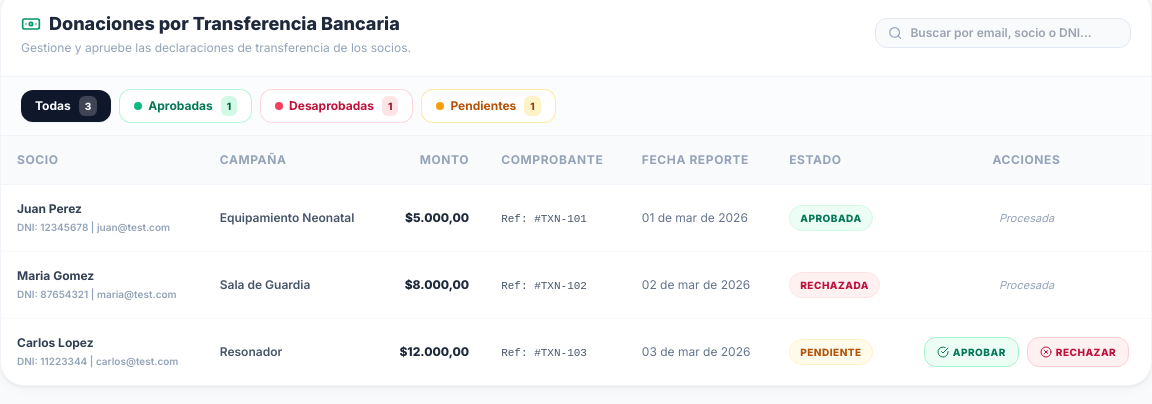
AdminTransfersTab - Vistas por estado › debería filtrar exclusivamente transferencias aprobadas al seleccionar la pestaña Aprobadas
Click the button "Aprobadas 1" at coordinates (186, 106), box [119,89,252,123]
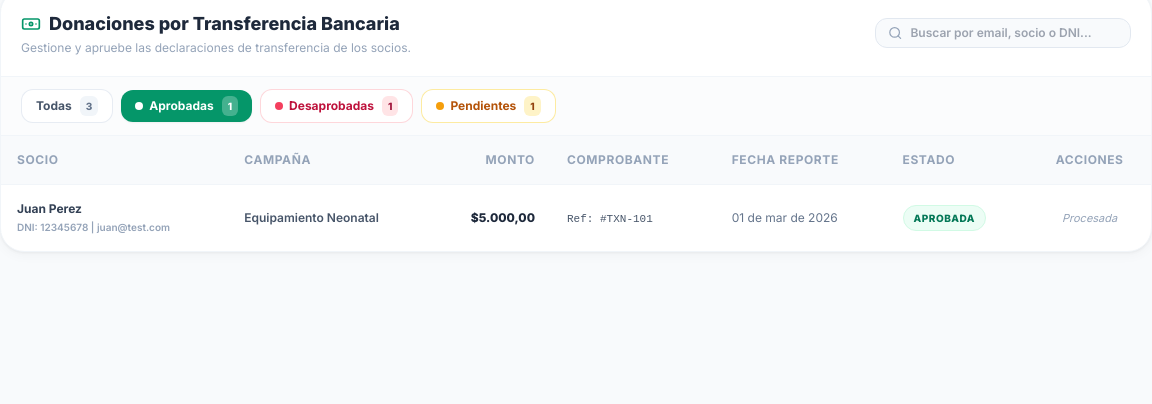
Expected: the text "Maria Gomez" is gone
Expected: the text "Carlos Lopez" is gone
